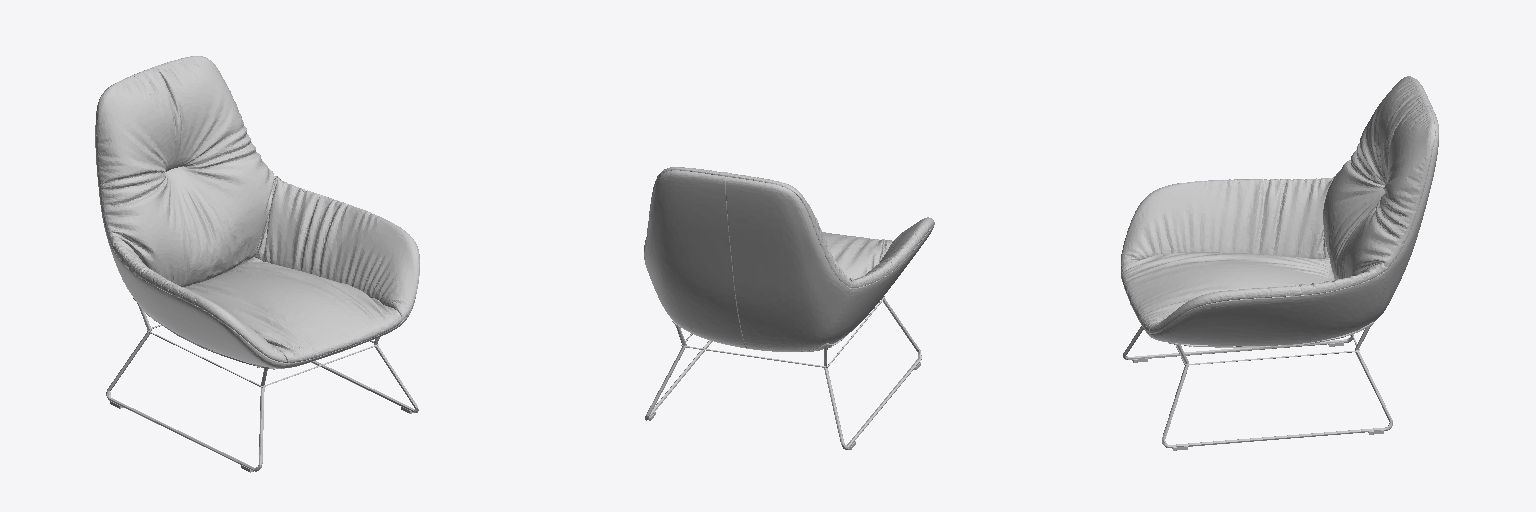
File: chair.obj
The picture shows the model from 3 angles: view 1: azimuth 30°, elevation 25°; view 2: azimuth 150°, elevation 25°; view 3: azimuth 270°, elevation 25°; orthographic projection.
Parts seen in each view (by area): view 1: Mesh13_G_3DGeom_2_Group2_G_2_Group001_Assembly_7_Model, Mesh10_G_3DGeom_1_Group1_G_1_Group001_Assembly_7_Model; view 2: Mesh13_G_3DGeom_2_Group2_G_2_Group001_Assembly_7_Model, Mesh10_G_3DGeom_1_Group1_G_1_Group001_Assembly_7_Model; view 3: Mesh13_G_3DGeom_2_Group2_G_2_Group001_Assembly_7_Model, Mesh10_G_3DGeom_1_Group1_G_1_Group001_Assembly_7_Model.
Part boxes in pixels (x1,y1,x2,y2): Mesh13_G_3DGeom_2_Group2_G_2_Group001_Assembly_7_Model: (95, 56, 419, 368); Mesh10_G_3DGeom_1_Group1_G_1_Group001_Assembly_7_Model: (106, 297, 418, 472); Mesh13_G_3DGeom_2_Group2_G_2_Group001_Assembly_7_Model: (644, 167, 934, 351); Mesh10_G_3DGeom_1_Group1_G_1_Group001_Assembly_7_Model: (645, 296, 921, 449); Mesh13_G_3DGeom_2_Group2_G_2_Group001_Assembly_7_Model: (1121, 76, 1438, 346); Mesh10_G_3DGeom_1_Group1_G_1_Group001_Assembly_7_Model: (1123, 322, 1392, 450).
Size of the model in its own units: 3.19 by 3.61 by 3.64.